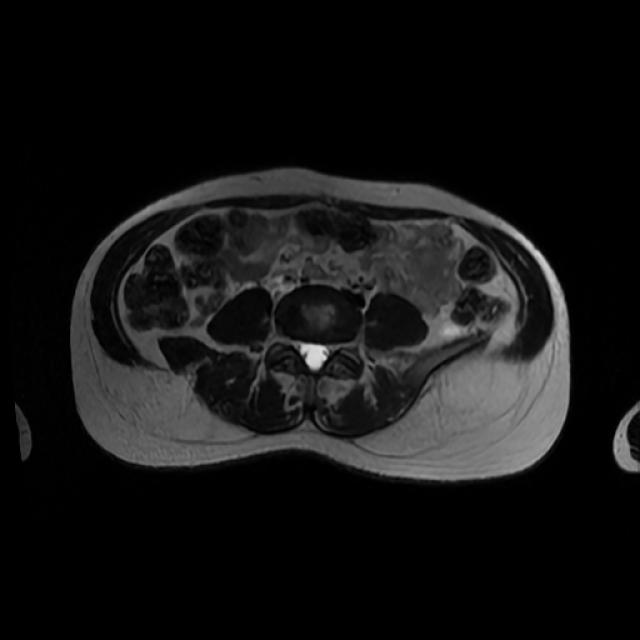sol: (440, 326, 469, 337)
